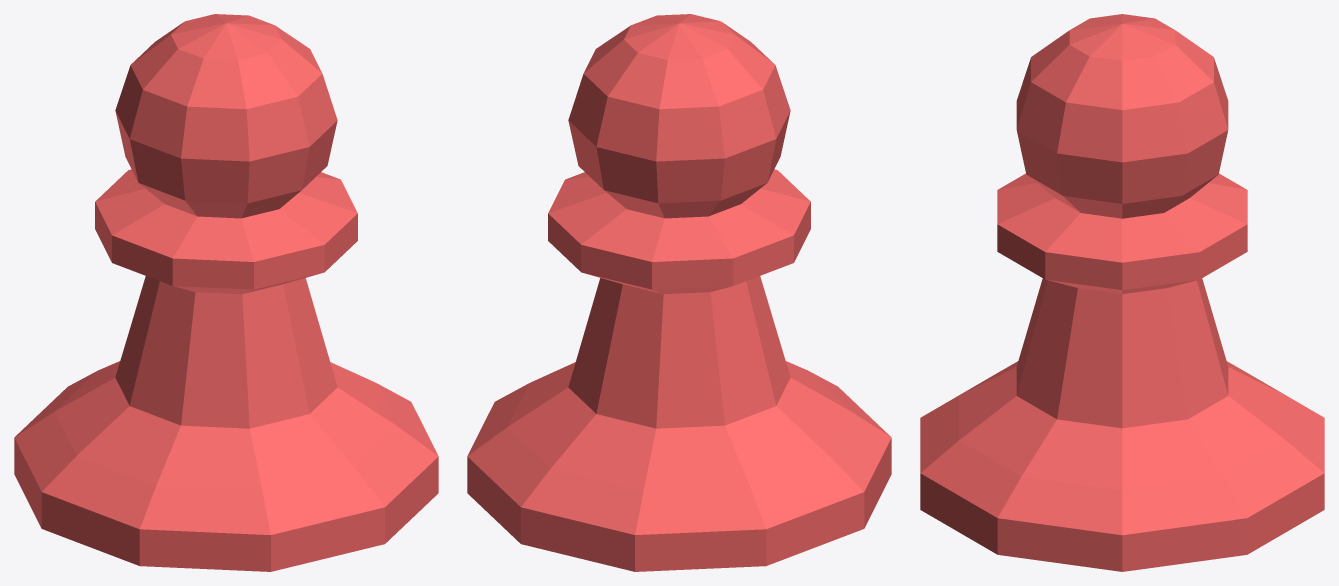
Rendered from pawn.glb.
The picture shows the model from 3 angles, left to right: view 1: azimuth 30°, elevation 25°; view 2: azimuth 150°, elevation 25°; view 3: azimuth 270°, elevation 25°; orthographic projection.
Visible parts, largest first — view 1: LalaoPawn; view 2: LalaoPawn; view 3: LalaoPawn.
Boxes of the visible parts, <box> form: LalaoPawn: <box>14,14,438,571</box>; LalaoPawn: <box>467,14,891,571</box>; LalaoPawn: <box>920,14,1324,571</box>.
Size of the model in its own units: 0.84 by 1 by 0.7989.
